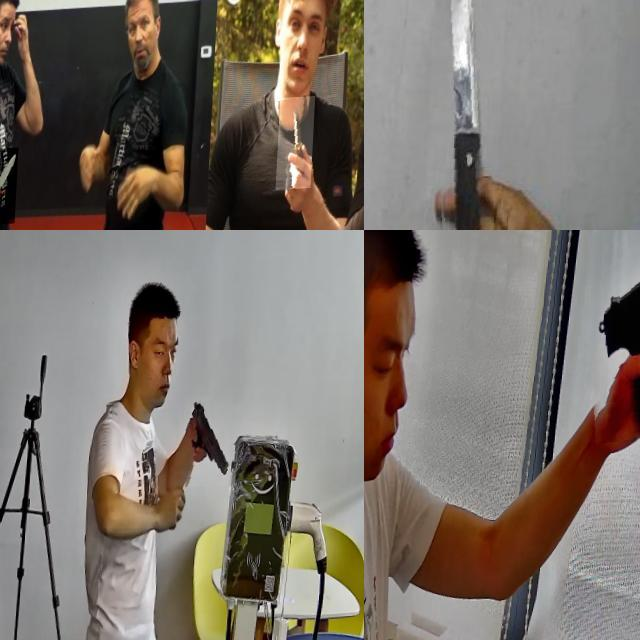-: (423, 0, 514, 230), (282, 102, 321, 195), (0, 148, 23, 226), (3, 0, 23, 9)
gun-knife-thesis - v11 Yolov5 augmented: (584, 230, 640, 446), (184, 400, 236, 493)
